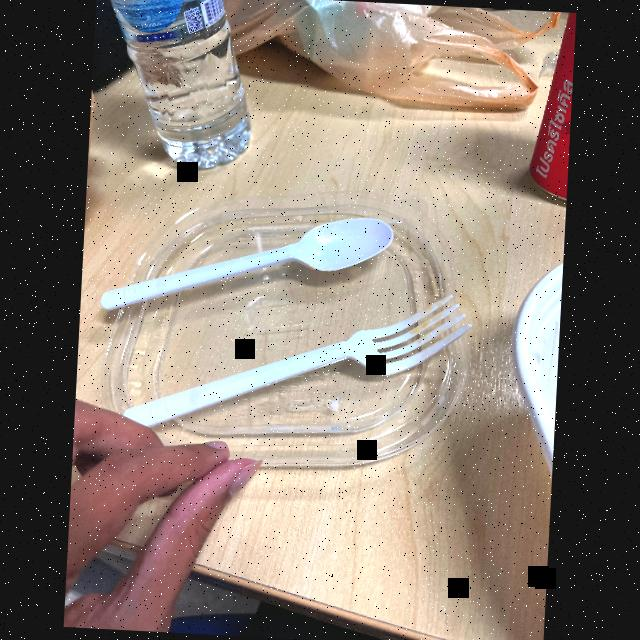plastic_spoon: (122, 268, 464, 445), (84, 192, 408, 348)
